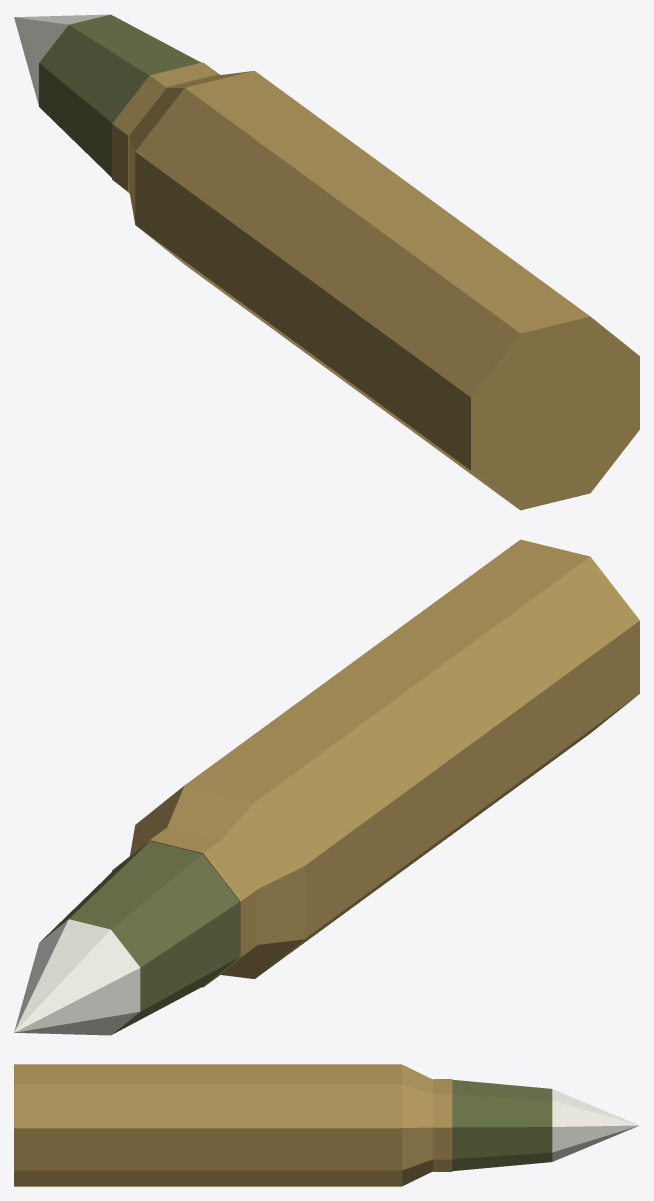
File: ce_ammo_light_he_a.obj
3 renders of one model, top to bottom at view 1: azimuth 30°, elevation 25°; view 2: azimuth 150°, elevation 25°; view 3: azimuth 270°, elevation 25°, orthographic. The views are drawn at different scales.
Parts seen in each view (by area): view 1: ce_ammo_light_he_a_0, ce_ammo_light_he_a_3, ce_ammo_light_he_a_2, ce_ammo_light_he_a_4, ce_ammo_light_he_a_1; view 2: ce_ammo_light_he_a_0, ce_ammo_light_he_a_3, ce_ammo_light_he_a_1, ce_ammo_light_he_a_4, ce_ammo_light_he_a_2; view 3: ce_ammo_light_he_a_0, ce_ammo_light_he_a_3, ce_ammo_light_he_a_1, ce_ammo_light_he_a_4, ce_ammo_light_he_a_2.
Part boxes in pixels (bbox=[...]): ce_ammo_light_he_a_0: bbox=[135, 71, 639, 510]; ce_ammo_light_he_a_3: bbox=[39, 14, 200, 177]; ce_ammo_light_he_a_2: bbox=[112, 62, 219, 193]; ce_ammo_light_he_a_4: bbox=[14, 14, 108, 105]; ce_ammo_light_he_a_1: bbox=[129, 71, 252, 224]; ce_ammo_light_he_a_0: bbox=[185, 539, 639, 976]; ce_ammo_light_he_a_3: bbox=[40, 841, 239, 1034]; ce_ammo_light_he_a_1: bbox=[130, 785, 304, 978]; ce_ammo_light_he_a_4: bbox=[14, 919, 140, 1035]; ce_ammo_light_he_a_2: bbox=[112, 828, 256, 987]; ce_ammo_light_he_a_0: bbox=[14, 1064, 401, 1186]; ce_ammo_light_he_a_3: bbox=[452, 1079, 552, 1171]; ce_ammo_light_he_a_1: bbox=[402, 1064, 433, 1186]; ce_ammo_light_he_a_4: bbox=[552, 1089, 639, 1161]; ce_ammo_light_he_a_2: bbox=[433, 1079, 452, 1171].
Bounding box in the file's own units: 0.1478 × 0.1478 × 0.82.
